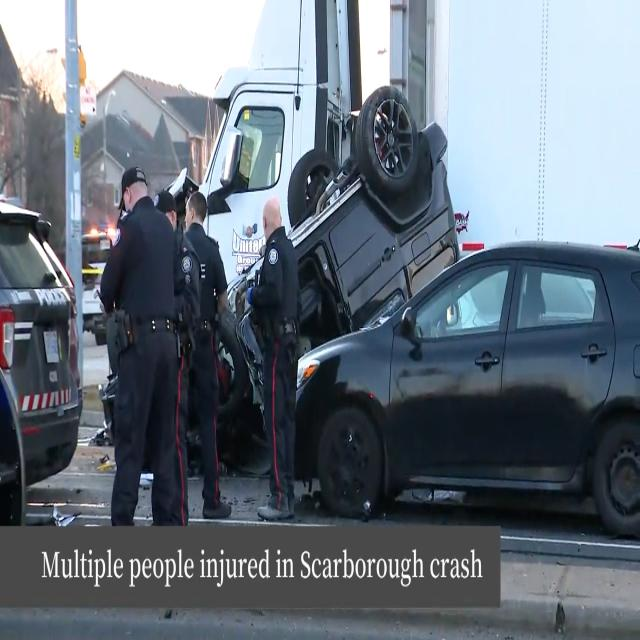Accident: (168, 78, 640, 550)
